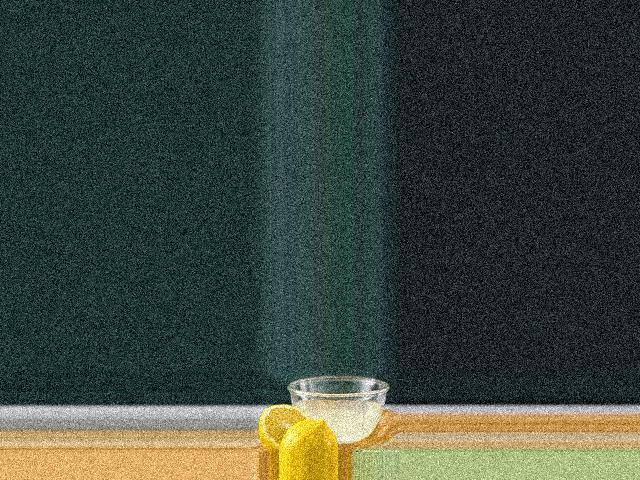lemon: (261, 403, 337, 453)
